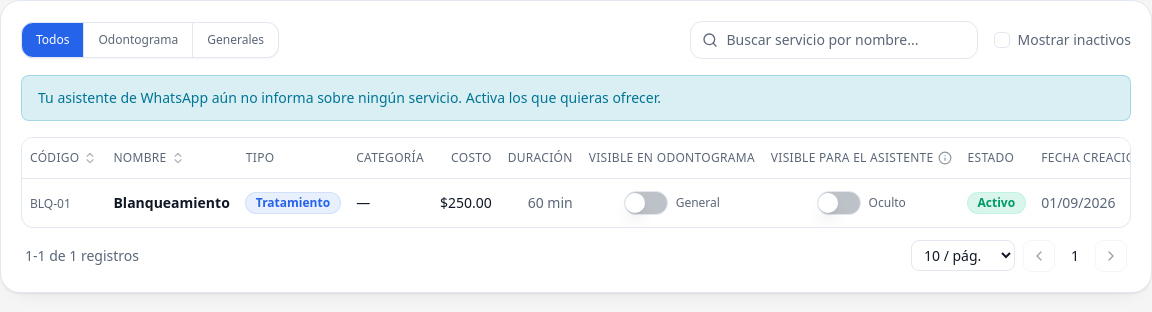
Test: columna «Visible para el asistente» › al activar reenvía la descripción de la fila y oculta el aviso
Expected: the text "Blanqueamiento" is shown, [114,192,230,212]
Expected: the text "Tu asistente de WhatsApp aún no informa sobre ningún servicio. Activa los que quieras ofrecer." is shown, [38,88,661,107]
Click the switch named "Mostrar \"Blanqueamiento\" al asistente" at [839, 202], box [817,190,861,214]
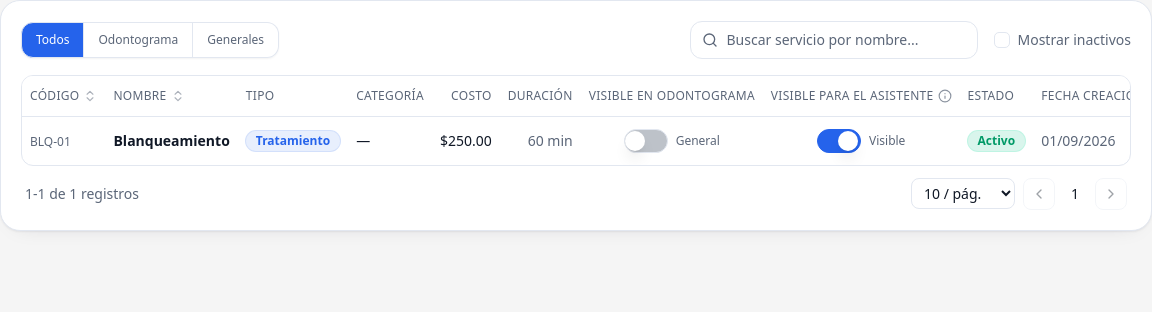
Now the text "Tu asistente de WhatsApp aún no informa sobre ningún servicio. Activa los que quieras ofrecer." is gone
